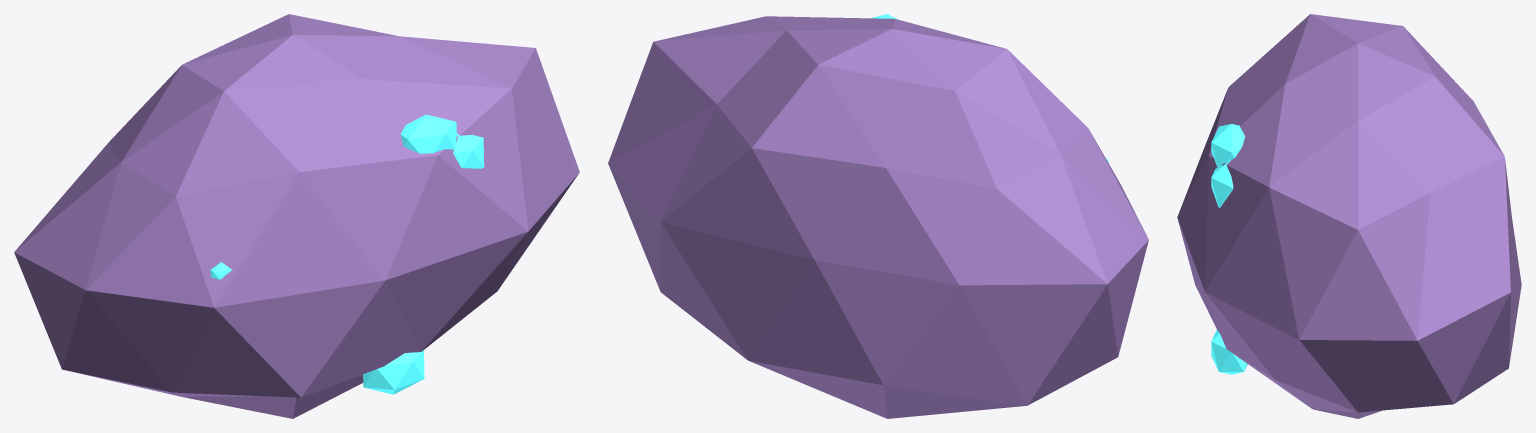
Rendered from asteroid_1.glb.
3 views of the same model, side by side, from view 1: azimuth 30°, elevation 25°; view 2: azimuth 150°, elevation 25°; view 3: azimuth 270°, elevation 25° (orthographic). The views are drawn at different scales.
Parts seen in each view (by area): view 1: Faceted rock.001, Mineral vein.004, Mineral vein.006, Mineral vein.007; view 2: Faceted rock.001; view 3: Faceted rock.001, Mineral vein.004, Mineral vein.006, Mineral vein.007.
Boxes of the visible parts, box(x1,y1,x2,y2) form: Faceted rock.001: box(14, 14, 579, 418); Mineral vein.004: box(400, 114, 456, 153); Mineral vein.006: box(363, 350, 424, 394); Mineral vein.007: box(453, 133, 484, 168); Faceted rock.001: box(608, 16, 1148, 418); Faceted rock.001: box(1177, 14, 1521, 418); Mineral vein.004: box(1211, 124, 1245, 167); Mineral vein.006: box(1211, 330, 1247, 374); Mineral vein.007: box(1211, 160, 1233, 207).
Size of the model in its own units: 2.4 by 1.73 by 1.44.
